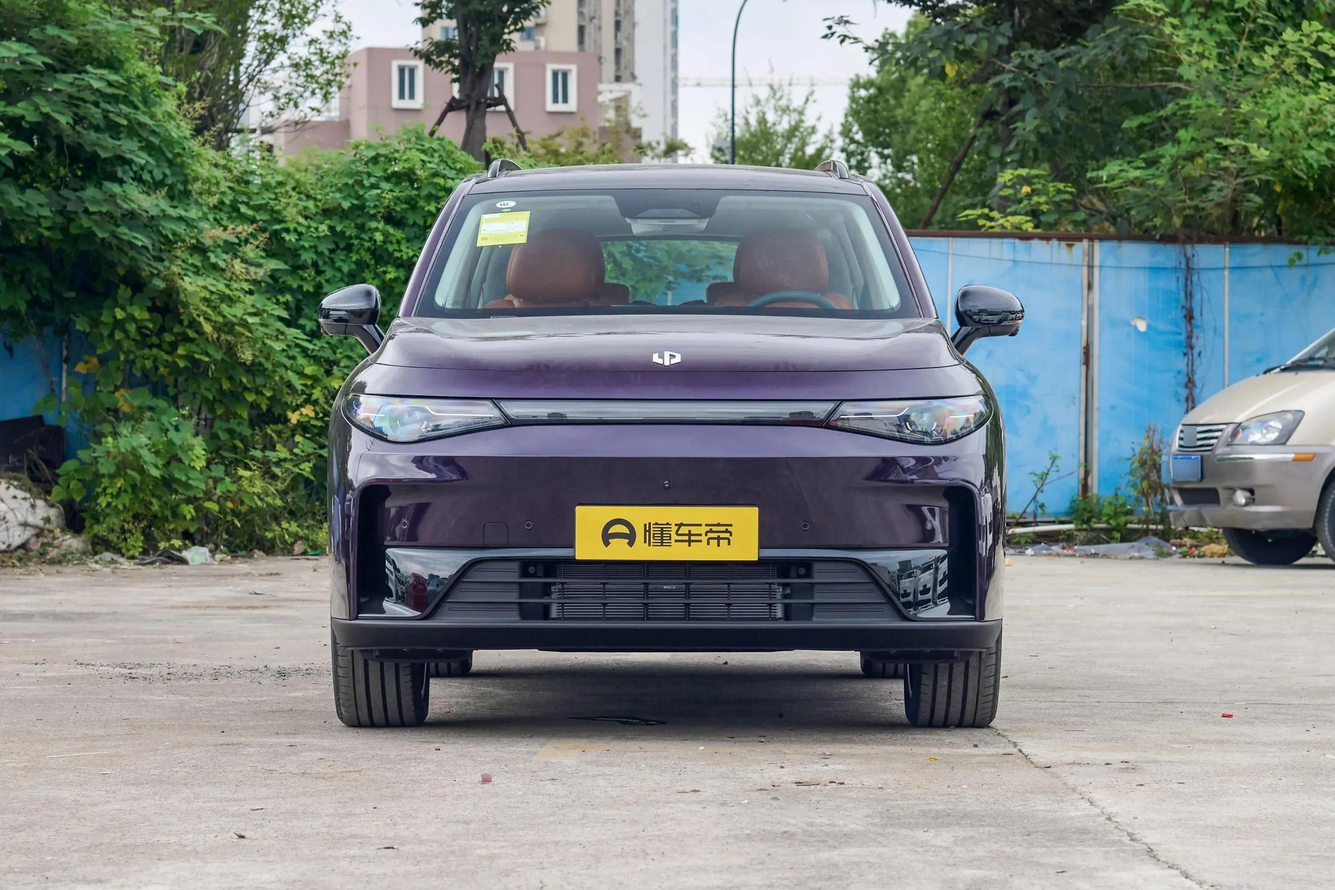LEAPMOTOR: (652, 348, 681, 366)
